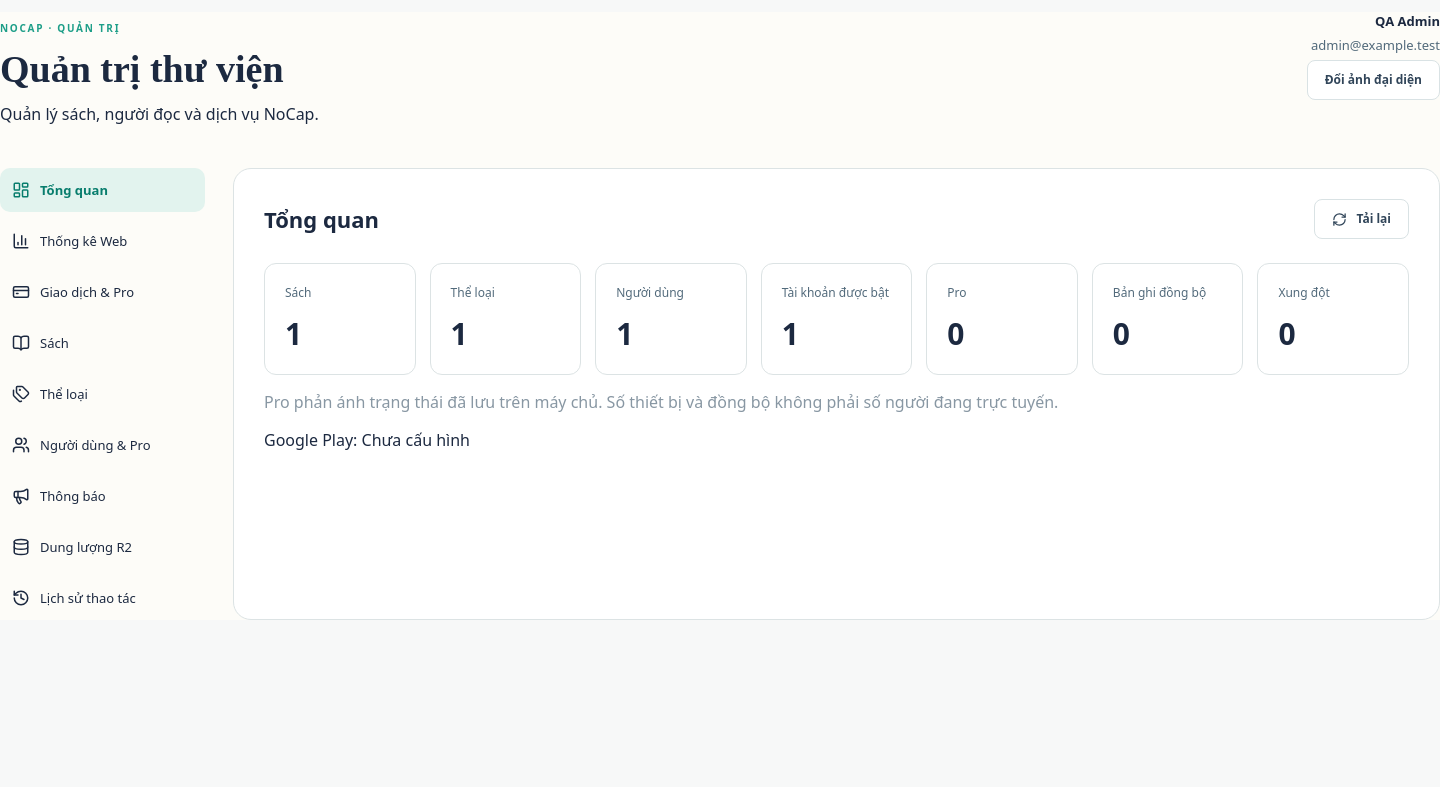
administrator workspace › opens global payments separately from the per-user history and handles revoked access
Expected: the text "Tài khoản được bật" is shown, [782,284,891,301]
Click the button "Giao dịch & Pro": (102, 292) [0,270,205,314]
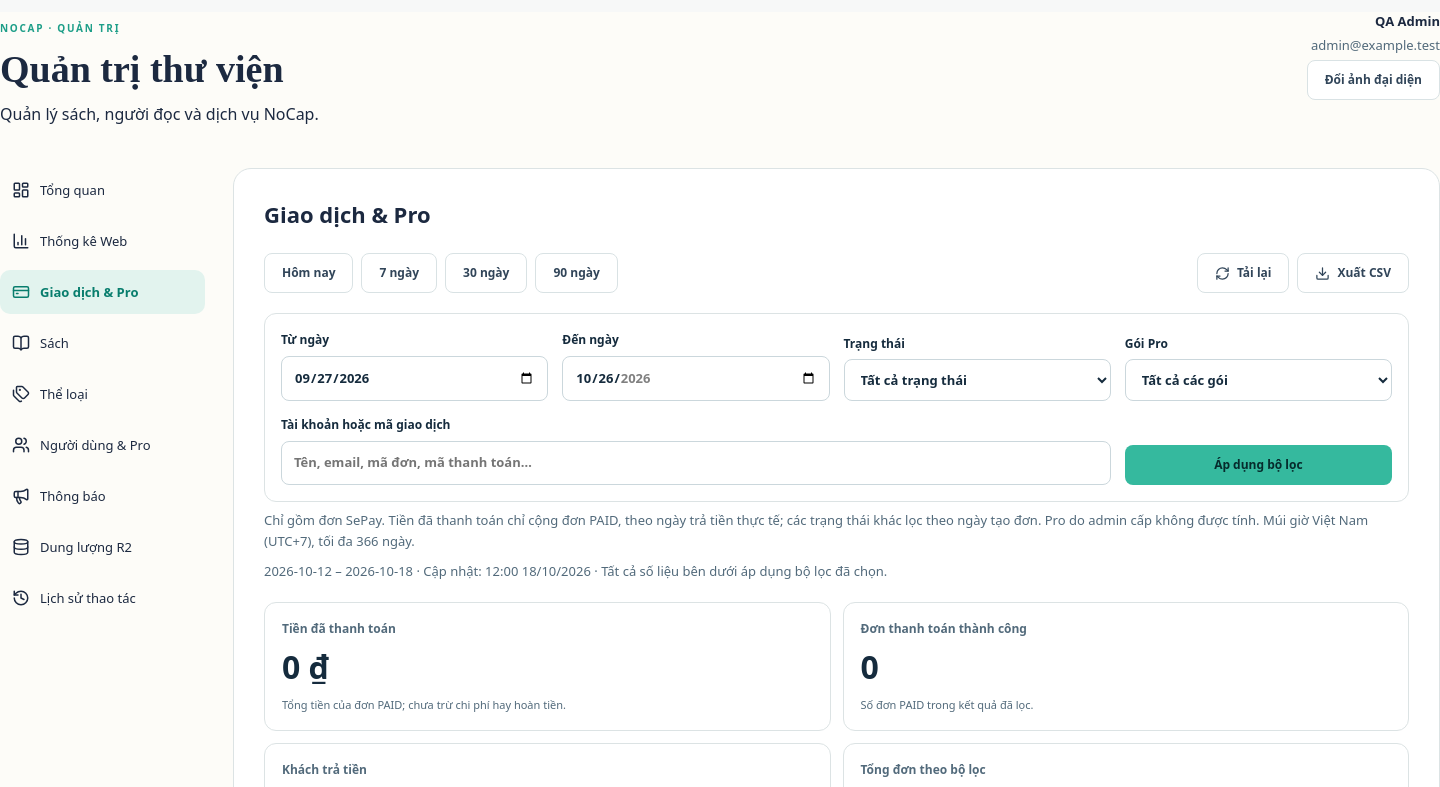
Expected: the number of buttons "Tải lại" is 1
Click the button "Tải lại": (1243, 273) [1197,253,1290,293]
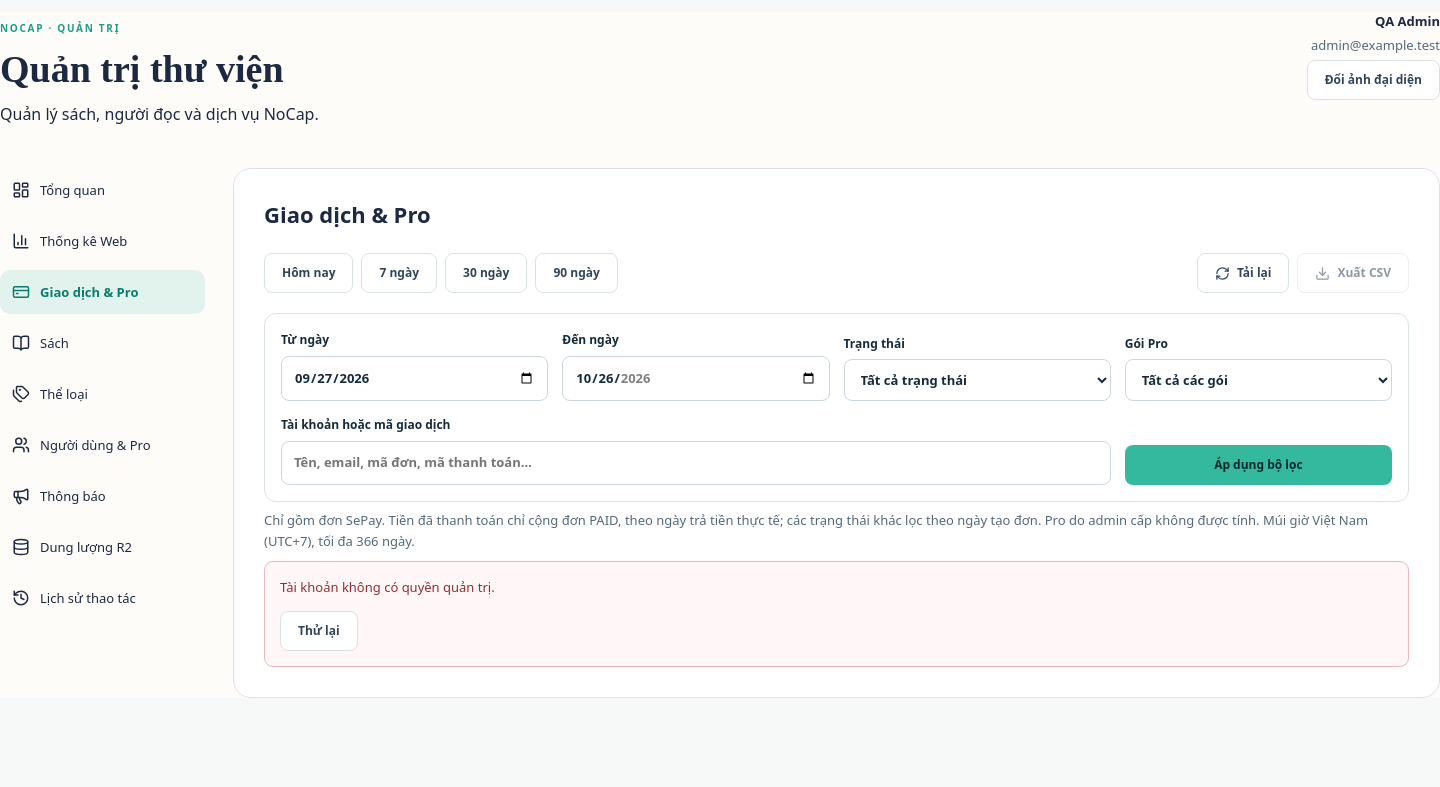
Expected: the heading "Khách trả tiền" is gone
